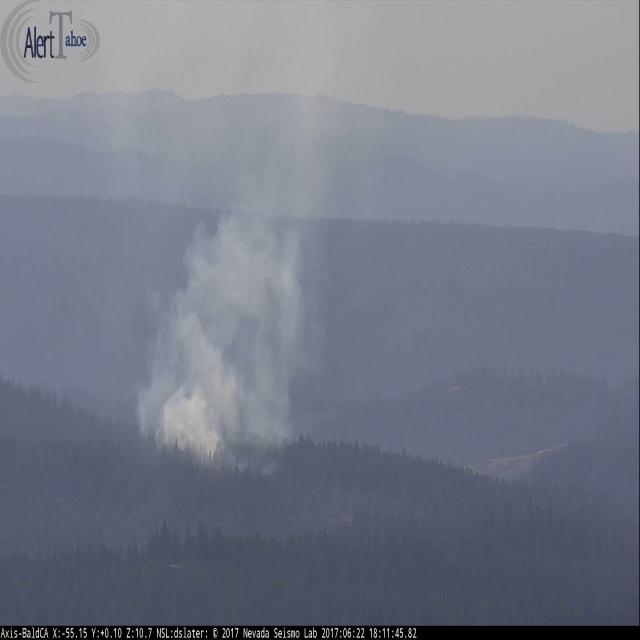smoke: (138, 24, 375, 477)
